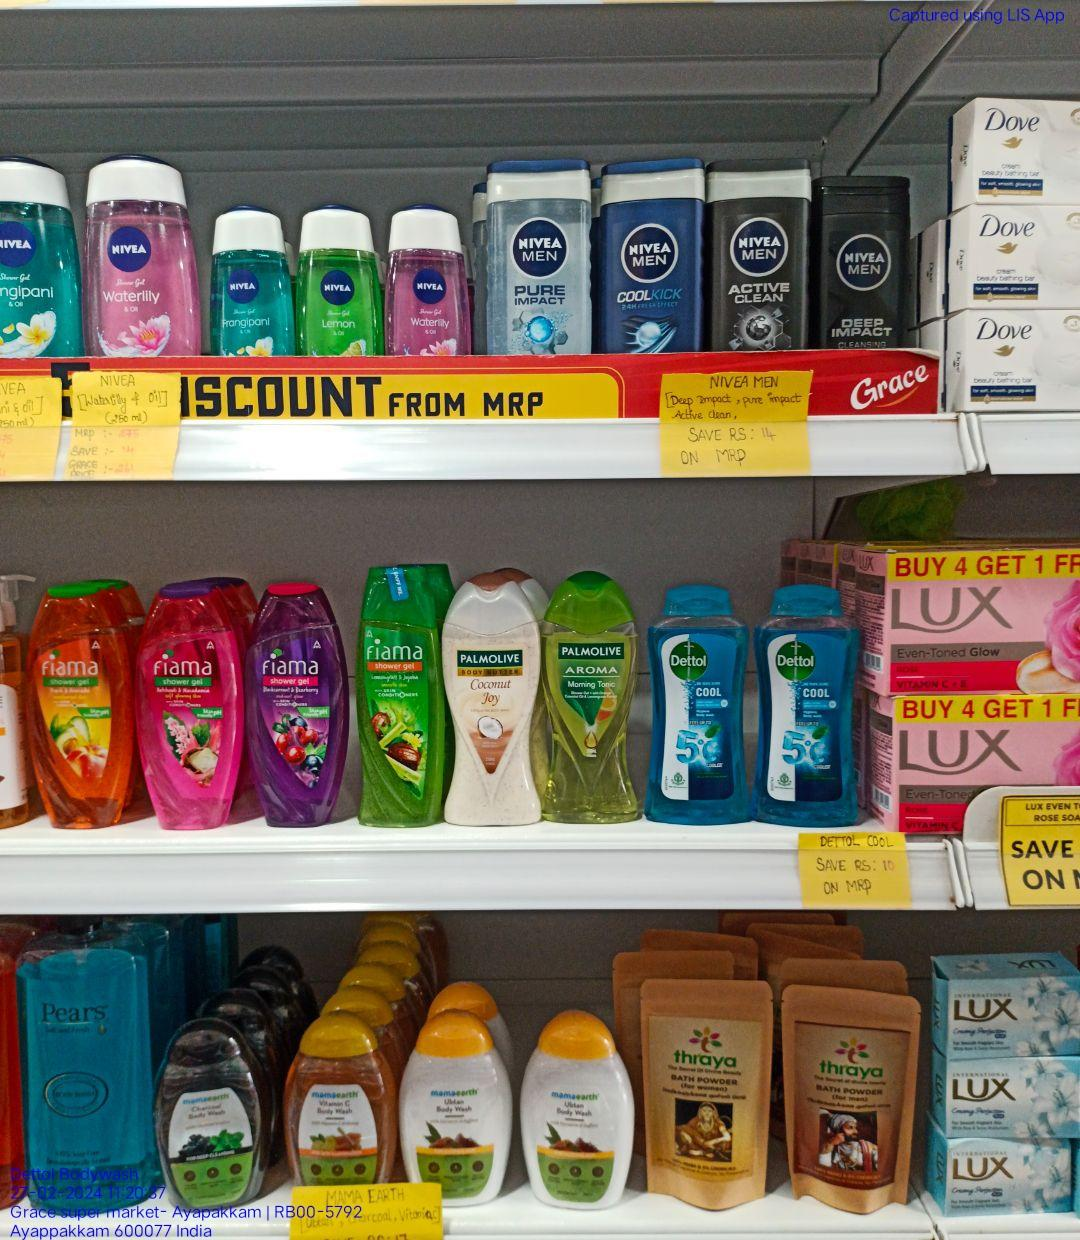Dettol_Bodywash_Cool: (758, 577, 862, 830), (650, 579, 752, 825)
Fiama_Shower_Gel_Lemongrass_and_Jojoba_250ML: (363, 566, 441, 830)
Fiama_Shower_Gel_Patchouli_and_Macadamia_250ML: (138, 588, 236, 834)
Fiama_Shower_Gel_Peach_and_Avocado_250ML: (25, 583, 117, 830)
Nivea_Shower_Gel_Frangipani_and_Oil_250ML: (0, 144, 77, 365), (211, 201, 293, 357)
Nivea_Shower_Gel_Lemon_and_Oil_250ML: (298, 204, 382, 356)
Nivea_Shower_Gel_Waterlily_and_Oil_250ML: (82, 153, 197, 363), (387, 204, 467, 363)
Palmolive_Aroma_Morning_Tonic_Shower_Gel_250ML: (546, 570, 639, 829)
Palmolive_Coconut_Joy_Exfoliating_Body_Wash_250ML: (447, 575, 538, 831)
